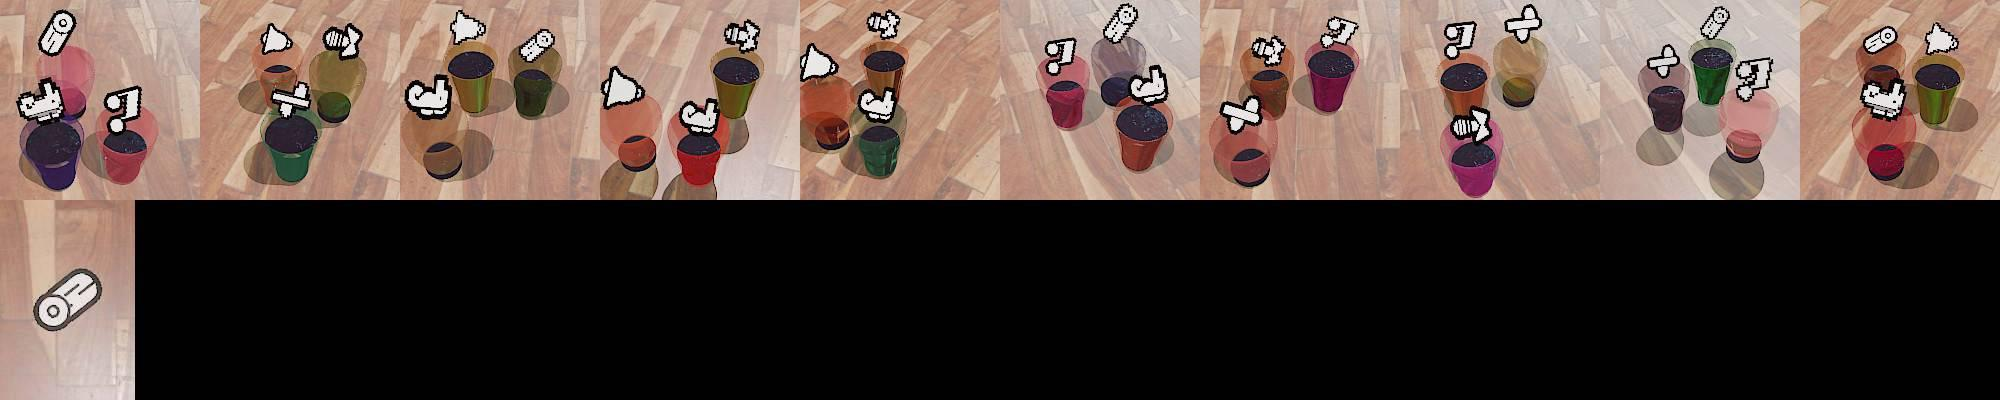icon: (30, 264, 104, 334), (404, 72, 453, 117), (16, 79, 65, 123), (600, 66, 646, 108), (103, 85, 144, 132), (37, 10, 77, 58), (1859, 79, 1906, 119), (1127, 62, 1170, 105), (1733, 56, 1773, 102), (269, 77, 313, 117), (1450, 104, 1493, 144), (1218, 95, 1262, 133), (677, 95, 719, 134), (1102, 3, 1140, 46), (799, 43, 840, 82), (1503, 3, 1542, 44), (856, 85, 898, 123), (325, 21, 365, 60), (449, 9, 487, 46), (723, 18, 761, 53), (517, 28, 556, 62), (1320, 16, 1358, 49), (1045, 36, 1077, 75), (1923, 21, 1958, 55), (1646, 44, 1680, 78), (1250, 35, 1287, 66), (260, 22, 294, 55), (1443, 21, 1477, 54), (1699, 5, 1730, 41), (866, 9, 901, 40), (1862, 28, 1898, 57)
